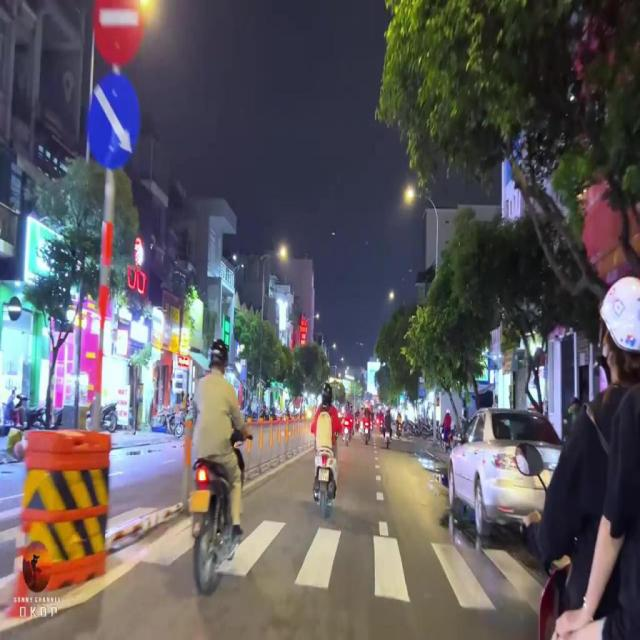cam_xe_di_nguoc_chieu: (92, 0, 146, 64)
huong_phai_di_vuot_chuong_ngai_vat_phai: (86, 73, 140, 169)
